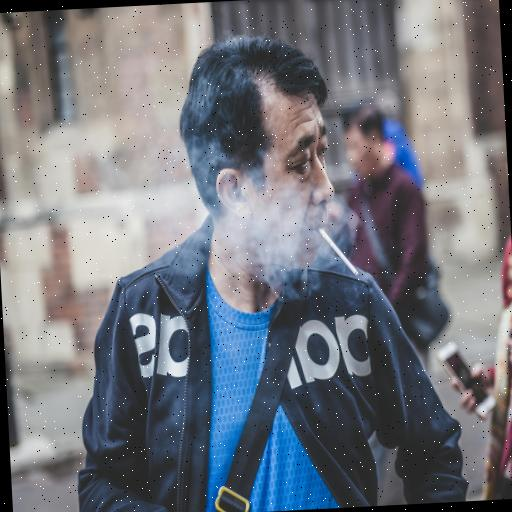terdeteksi merokok: (288, 142, 369, 291)
